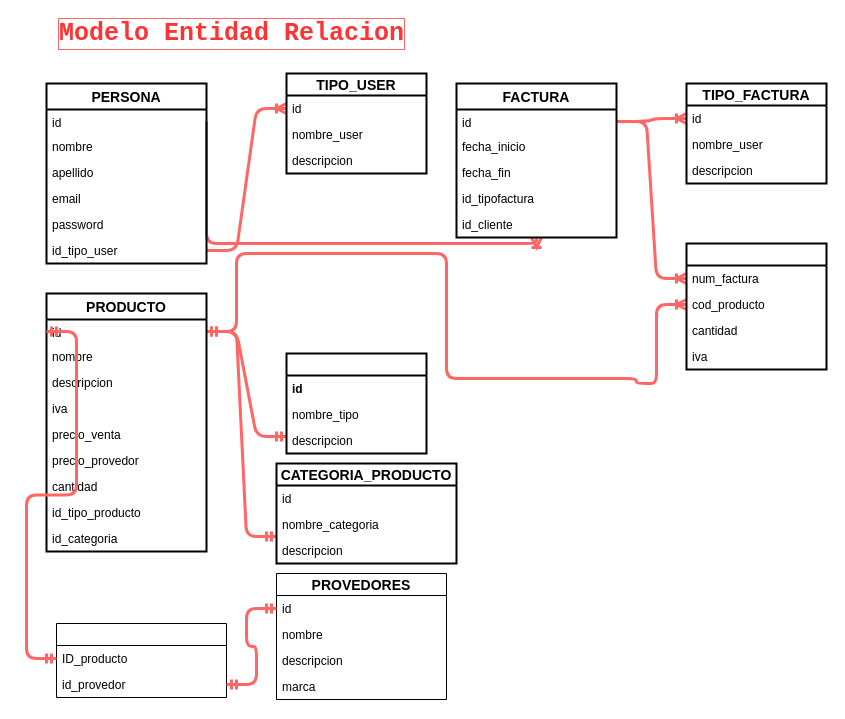
Image size: 845x719. Some labels were removed from this diagram. Here are the shapes that lost their labels. From the top down, the box of each, then its label:
(685, 242, 827, 370): detalle_factura
(285, 352, 427, 454): TIPO_PRODUCTO
(56, 622, 226, 698): PROVEDOR_PRODUCTO
